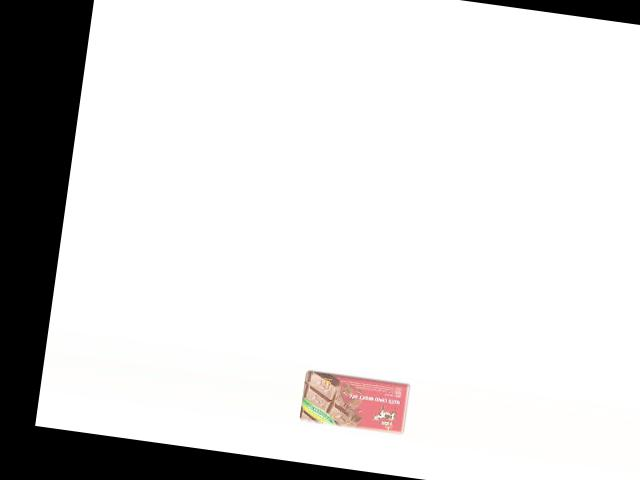chocolate: (298, 367, 413, 436)
